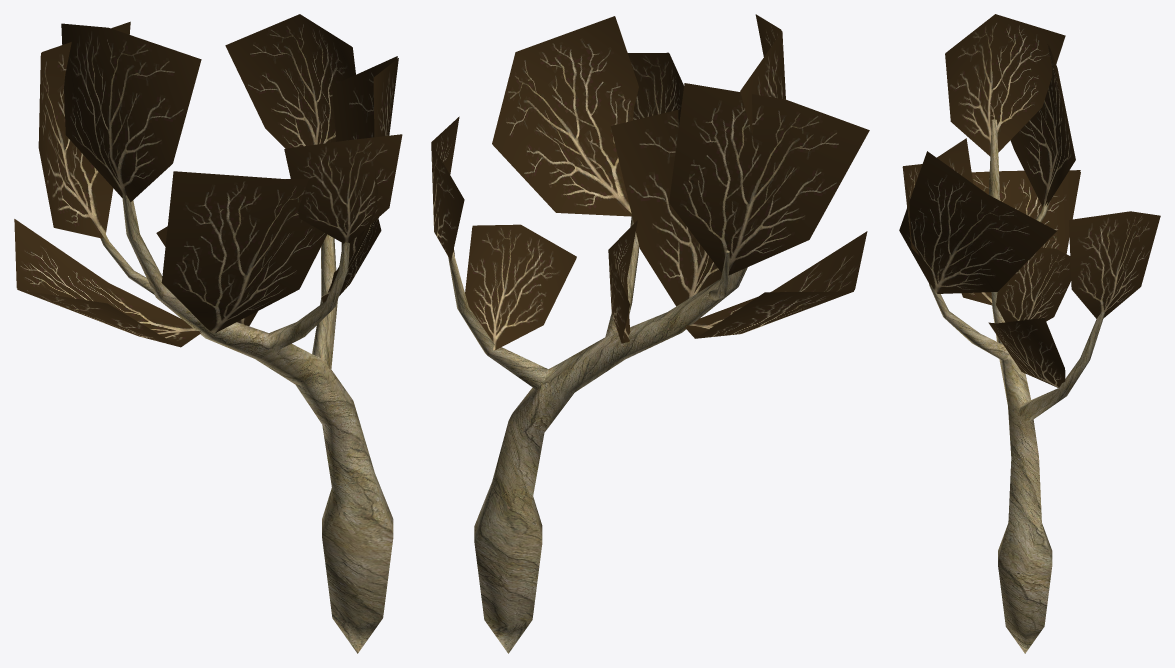
Rendered from decd_endr_destree_dead_a1_l0.fbx.
3 views of the same model, side by side, from view 1: azimuth 30°, elevation 25°; view 2: azimuth 150°, elevation 25°; view 3: azimuth 270°, elevation 25° (orthographic). The views are drawn at different scales.
Visible parts, largest first — view 1: mesh_node; view 2: mesh_node; view 3: mesh_node.
Boxes of the visible parts, x1,y1,x2,y2 form: mesh_node: (14, 14, 402, 653); mesh_node: (431, 14, 869, 653); mesh_node: (899, 14, 1160, 653).
Bounding box in the file's own units: 8.61 × 14.98 × 6.57.
